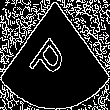P_NE: (33, 24, 77, 86)
